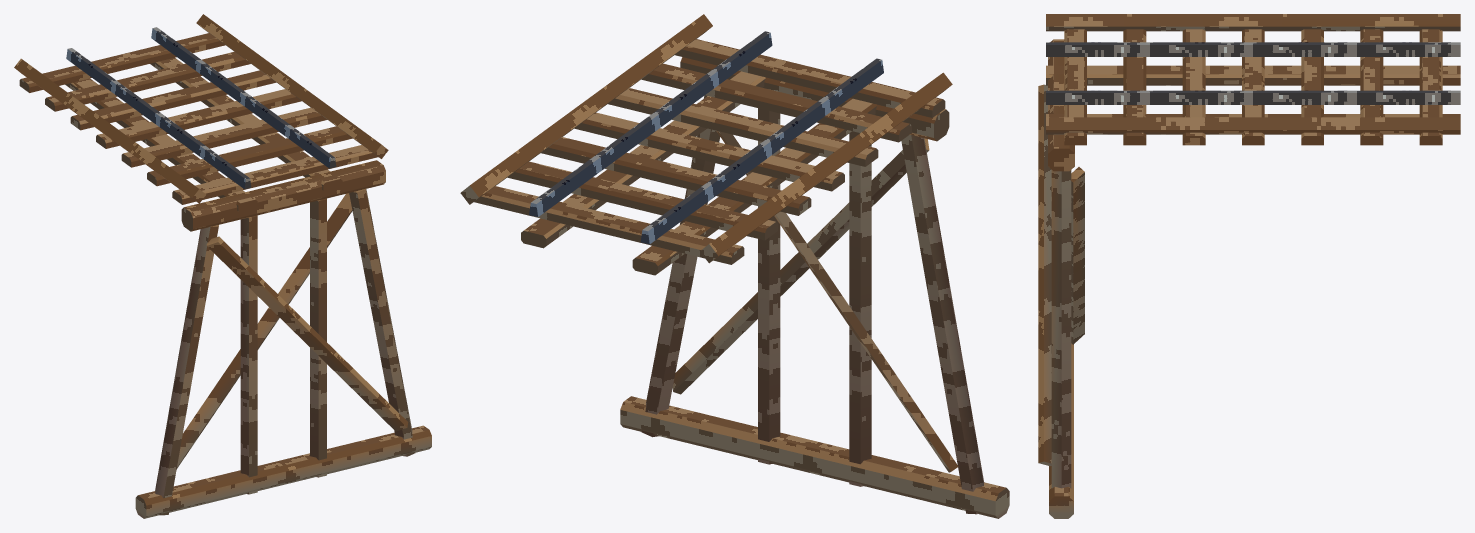
The model's file is wrail.trestle.glb.
3 views of the same model, side by side, from view 1: azimuth 30°, elevation 25°; view 2: azimuth 150°, elevation 25°; view 3: azimuth 270°, elevation 25° (orthographic). The views are drawn at different scales.
Visible parts, largest first — view 1: kit_ties, kit_bents, kit_braces, kit_sills, kit_rails, kit_guards, kit_caps, kit_stringers; view 2: kit_ties, kit_bents, kit_sills, kit_rails, kit_guards, kit_braces, kit_stringers, kit_caps; view 3: kit_guards, kit_rails, kit_ties, kit_braces, kit_bents, kit_stringers, kit_caps, kit_sills.
Boxes of the visible parts, box(x1,y1,x2,y2) form: kit_ties: box(19, 33, 378, 204); kit_bents: box(155, 188, 415, 515); kit_braces: box(176, 193, 408, 468); kit_sills: box(135, 425, 431, 518); kit_rails: box(66, 27, 336, 189); kit_guards: box(14, 14, 388, 203); kit_caps: box(181, 160, 385, 231); kit_stringers: box(65, 57, 342, 212); kit_ties: box(474, 39, 945, 264); kit_bents: box(641, 95, 983, 514); kit_sills: box(620, 396, 1009, 518); kit_rails: box(529, 31, 883, 244); kit_guards: box(460, 14, 952, 263); kit_braces: box(672, 130, 958, 472); kit_stringers: box(521, 71, 877, 275); kit_caps: box(680, 57, 949, 141); kit_guards: box(1046, 14, 1460, 134); kit_rails: box(1046, 42, 1460, 104); kit_ties: box(1064, 29, 1442, 145); kit_braces: box(1038, 84, 1084, 465); kit_bents: box(1051, 170, 1071, 488); kit_stringers: box(1046, 65, 1460, 117); kit_caps: box(1048, 39, 1074, 171); kit_sills: box(1049, 343, 1073, 518).
Size of the model in its own units: 3.7 by 3.98 by 4.07.
Materials: 2 (2 with a texture image).
